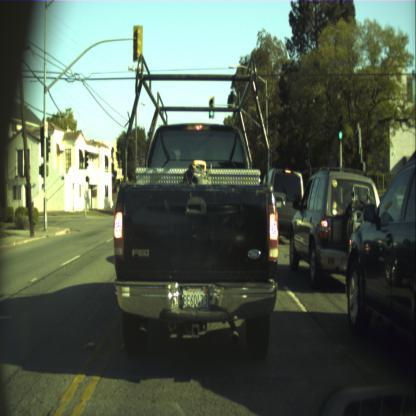Green: (338, 114, 343, 139), (209, 96, 214, 117)
